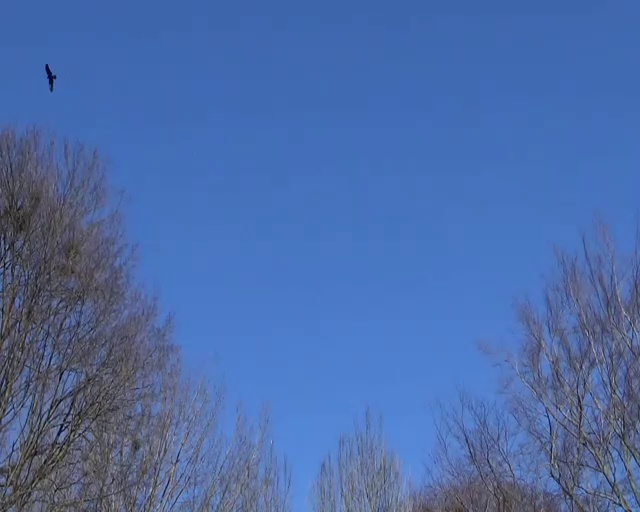BIRD: (44, 63, 57, 92)
